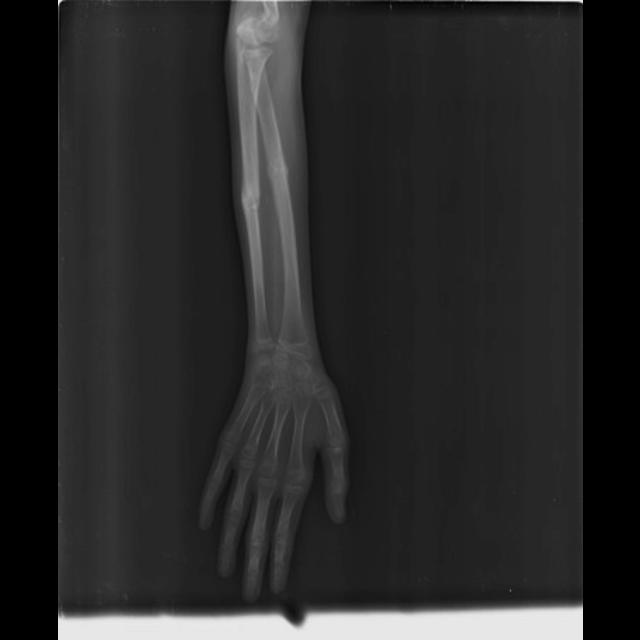fractured: (237, 174, 260, 215), (263, 157, 291, 185)
